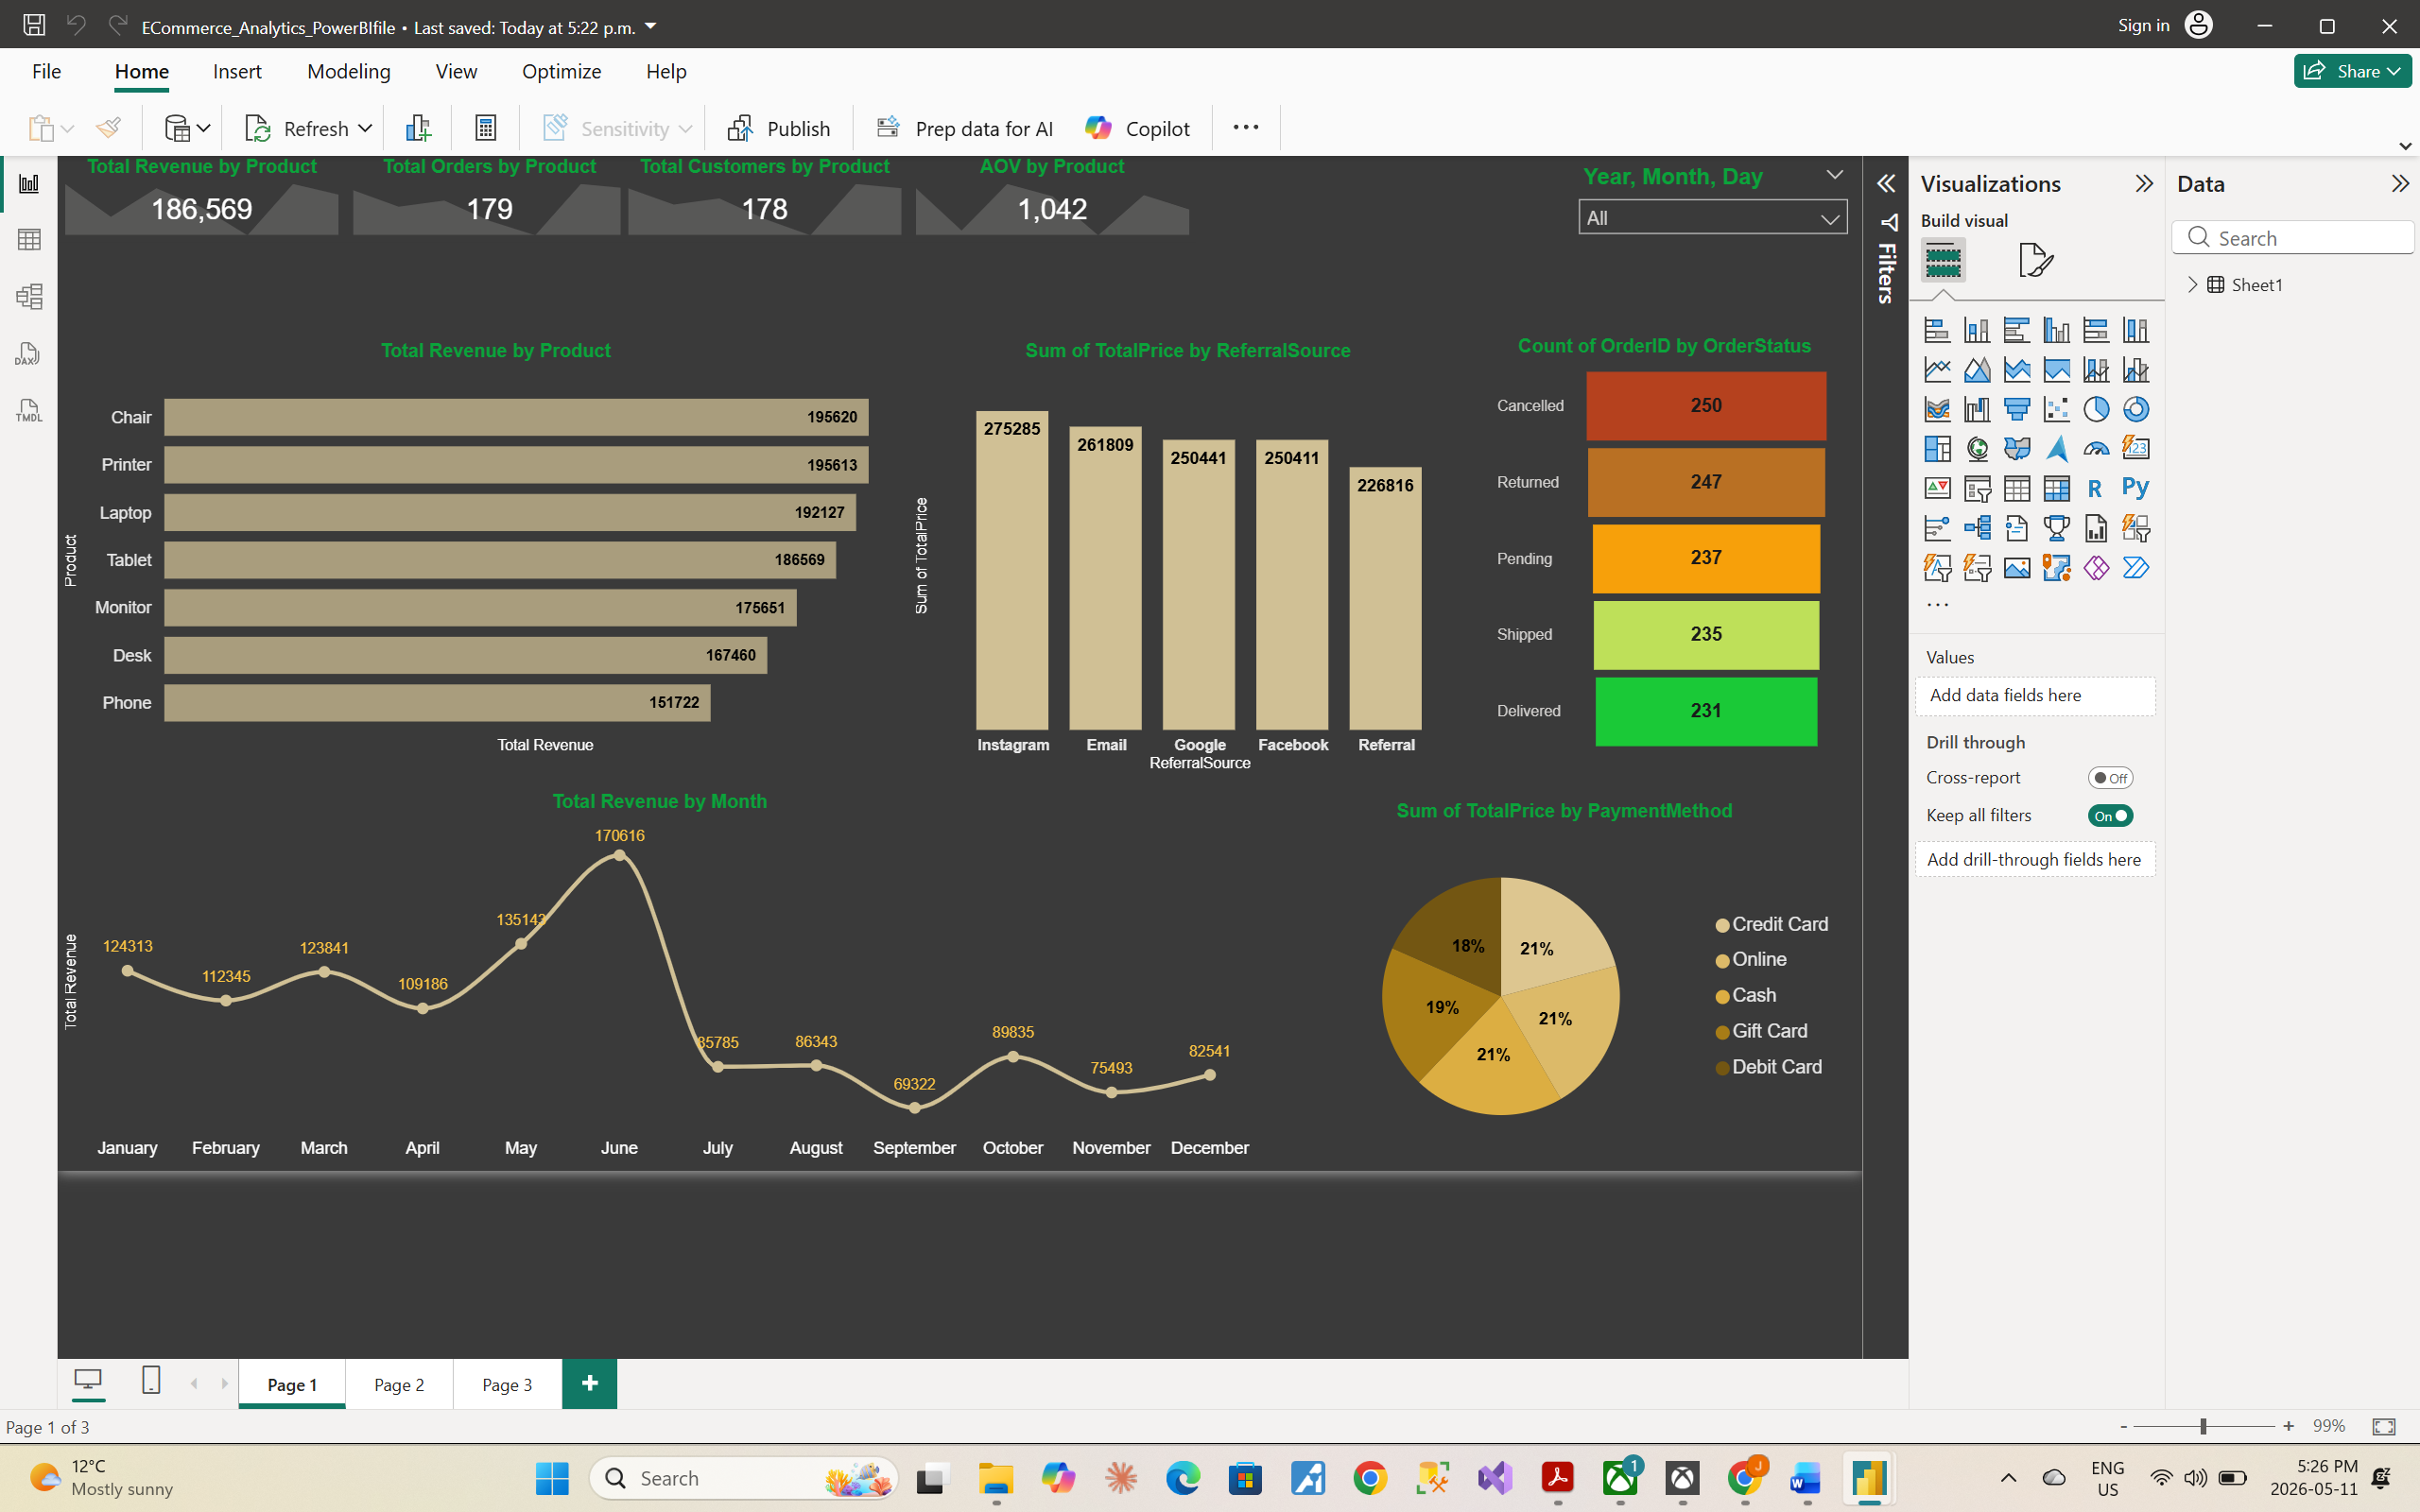

This screenshot's page, from the dashboard's own definition file:
{"tool":"powerbi","page":{"name":"Page 1","canvas":[1280,720],"ordinal":0},"visuals":[{"type":"lineChart","fields":{"Y":["Sheet1.Total Revenue"],"Category":["Sheet1.Date.Variation.Date Hierarchy.Year","Sheet1.Date.Variation.Date Hierarchy.Month","Sheet1.Date.Variation.Date Hierarchy.Day"]},"box":[0,451,854,269],"z":0},{"type":"clusteredBarChart","fields":{"Category":["Sheet1.Product"],"Y":["Sheet1.Total Revenue"]},"box":[0,131.1,621.1,297.8],"z":1000},{"type":"clusteredColumnChart","fields":{"Category":["Sheet1.ReferralSource"],"Y":["Sum(Sheet1.TotalPrice)"]},"box":[603.2,130.7,397.1,310.5],"z":2000},{"type":"pieChart","fields":{"Category":["Sheet1.PaymentMethod"],"Y":["Sum(Sheet1.TotalPrice)"]},"box":[867,458,404,262],"z":3000},{"type":"funnel","fields":{"Category":["Sheet1.OrderStatus"],"Y":["CountNonNull(Sheet1.OrderID)"]},"box":[1015.5,128.1,248.6,301.2],"z":4000},{"type":"kpi","fields":{"Indicator":["Sheet1.Total Revenue"],"TrendLine":["Sheet1.Product"]},"box":[0,0,204,61],"z":6000},{"type":"kpi","fields":{"Indicator":["Sheet1.Total Orders"],"TrendLine":["Sheet1.Product"]},"box":[204,0,204,61],"z":9002},{"type":"kpi","fields":{"TrendLine":["Sheet1.Product"],"Indicator":["Sheet1.Total Customers"]},"box":[399,0,204,61],"z":9003},{"type":"kpi","fields":{"TrendLine":["Sheet1.Product"],"Indicator":["Sheet1.AOV"]},"box":[603,0,204,61],"z":9004},{"type":"slicer","fields":{"Values":["Sheet1.Date.Variation.Date Hierarchy.Year","Sheet1.Date.Variation.Date Hierarchy.Month","Sheet1.Date.Variation.Date Hierarchy.Day"]},"box":[1069,0,210.6,60.5],"z":9005}]}

Visuals, with their boxes on the page's 1280x720 design canvas (x1, y1, x2, y2). These are canvas units, not pixel positions in the 2420x1512 screenshot, which may show the page scaled, cropped or inside an application window:
lineChart - Sheet1.Total Revenue x Sheet1.Date.Variation.Date Hierarchy.Year: pyautogui.locateOnScreen(0, 451, 854, 720)
clusteredBarChart - Sheet1.Product x Sheet1.Total Revenue: pyautogui.locateOnScreen(0, 131, 621, 429)
clusteredColumnChart - Sheet1.ReferralSource x Sum(Sheet1.TotalPrice): pyautogui.locateOnScreen(603, 131, 1000, 441)
pieChart - Sheet1.PaymentMethod x Sum(Sheet1.TotalPrice): pyautogui.locateOnScreen(867, 458, 1271, 720)
funnel - Sheet1.OrderStatus x CountNonNull(Sheet1.OrderID): pyautogui.locateOnScreen(1016, 128, 1264, 429)
kpi - Sheet1.Total Revenue x Sheet1.Product: pyautogui.locateOnScreen(0, 0, 204, 61)
kpi - Sheet1.Total Orders x Sheet1.Product: pyautogui.locateOnScreen(204, 0, 408, 61)
kpi - Sheet1.Product x Sheet1.Total Customers: pyautogui.locateOnScreen(399, 0, 603, 61)
kpi - Sheet1.Product x Sheet1.AOV: pyautogui.locateOnScreen(603, 0, 807, 61)
slicer - Sheet1.Date.Variation.Date Hierarchy.Year x Sheet1.Date.Variation.Date Hierarchy.Month: pyautogui.locateOnScreen(1069, 0, 1280, 60)
